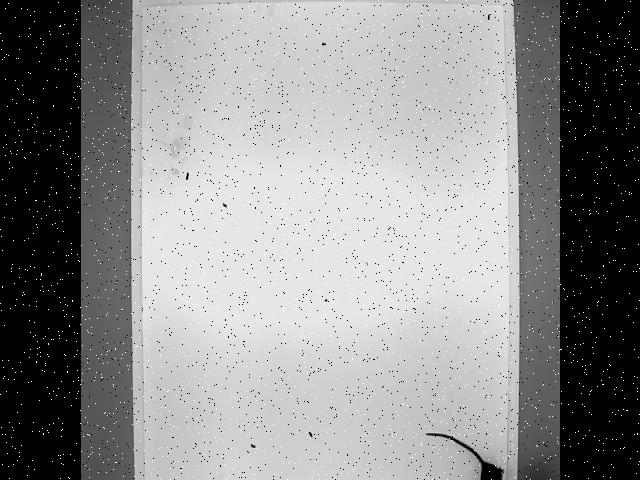Tikus: (425, 431, 507, 480)
